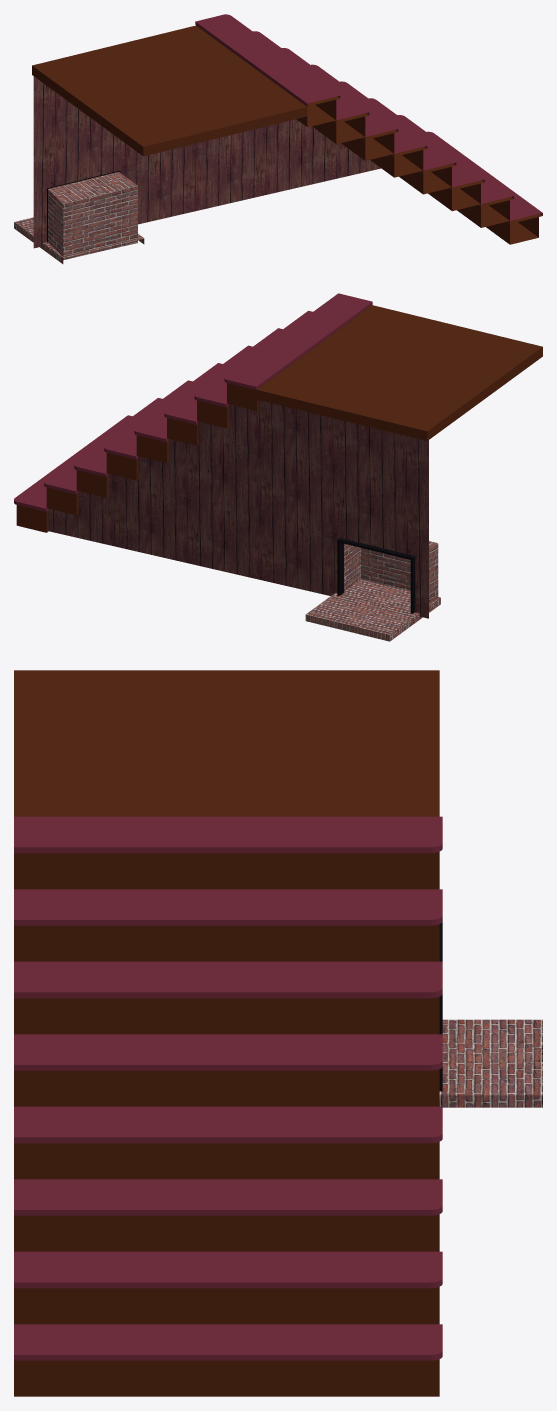
File: EntranceStairs.glb
3 views of the same model, one above another, from view 1: azimuth 30°, elevation 25°; view 2: azimuth 150°, elevation 25°; view 3: azimuth 270°, elevation 25° (orthographic). The views are drawn at different scales.
Parts seen in each view (by area): view 1: EntranceStairsPlane, NewEntrance, NewEntranceStair, Fire Floor Brick; view 2: EntranceStairsPlane, NewEntrance, NewEntranceStair, Fire Floor Brick, Fire Grate; view 3: NewEntranceStair, NewEntrance, Fire Floor Brick.
Part boxes in pixels (x1,y1,x2,y2): EntranceStairsPlane: (33,76,380,259); NewEntrance: (32,25,307,156); NewEntranceStair: (195,14,542,244); Fire Floor Brick: (14,217,144,263); EntranceStairsPlane: (48,400,438,618); NewEntrance: (257,305,542,440); NewEntranceStair: (14,293,372,532); Fire Floor Brick: (305,579,440,641); Fire Grate: (337,538,415,613); NewEntranceStair: (14,816,442,1396); NewEntrance: (14,670,439,816); Fire Floor Brick: (439,1019,542,1107).
Bounding box in the file's own units: 4.14 × 1.89 × 2.49.
5 materials, 2 textured.
